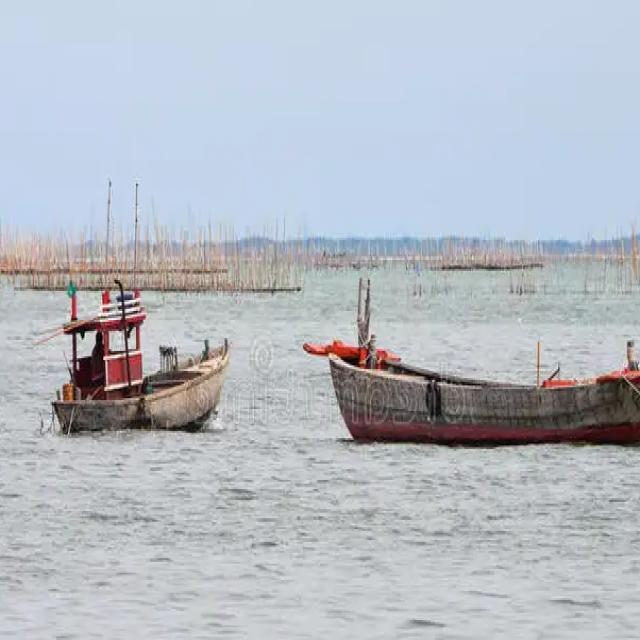fishing boat: (317, 282, 640, 444), (48, 264, 238, 436)
